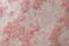plaque psoriasis: (0, 19, 37, 46), (23, 25, 63, 46), (29, 0, 69, 11), (57, 0, 69, 31), (15, 0, 30, 21), (0, 0, 6, 16)
